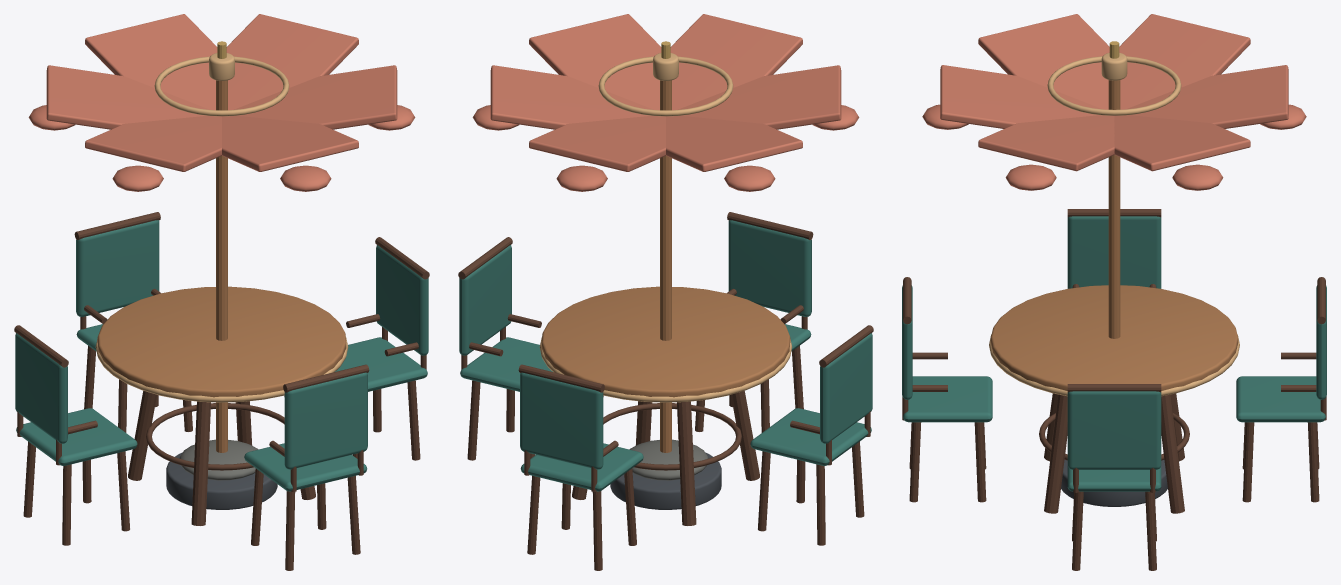
File: garden_table.glb
The picture shows the model from 3 angles, left to right: view 1: azimuth 30°, elevation 25°; view 2: azimuth 150°, elevation 25°; view 3: azimuth 270°, elevation 25°; orthographic projection.
Parts seen in each view (by area): view 1: Tint, Table top, Chair back, Chair back.002, Chair back.003, Chair back.001, Chair seat.003, Parasol pole, Parasol base, Chair seat, Chair seat.001, Table leg.003 (+23 smaller); view 2: Tint, Table top, Chair back.002, Chair back, Chair back.003, Chair back.001, Chair seat.003, Parasol pole, Parasol base, Chair seat.002, Chair seat.001, Table leg.002 (+23 smaller); view 3: Tint, Table top, Chair back.001, Chair back.003, Chair seat, Chair seat.002, Parasol pole, Chair seat.001, Canopy rib ring, Table leg, Table leg.001, Parasol base (+17 smaller).
Part boxes in pixels (x1,y1,x2,y2): Tint: (46,14,397,171); Table top: (97,286,346,397); Chair back: (284,372,367,469); Chair back.002: (76,220,159,316); Chair back.003: (15,333,67,443); Chair back.001: (376,245,428,355); Chair seat.003: (16,408,137,465); Parasol pole: (216,80,227,452); Parasol base: (166,452,277,509); Chair seat: (244,443,367,491); Chair seat.001: (335,337,427,391); Table leg.003: (191,401,210,525); Tint: (490,14,841,171); Table top: (541,286,790,397); Chair back.002: (520,372,603,469); Chair back: (728,220,811,316); Chair back.003: (820,333,872,443); Chair back.001: (459,245,511,355); Chair seat.003: (750,408,871,465); Parasol pole: (660,80,671,452); Parasol base: (610,452,721,509); Chair seat.002: (520,443,643,491); Chair seat.001: (460,337,552,391); Table leg.002: (677,401,696,525); Tint: (940,14,1288,171); Table top: (990,285,1238,390); Chair back.001: (1067,391,1161,469); Chair back.003: (1067,216,1161,288); Chair seat: (903,376,992,422); Chair seat.002: (1236,376,1325,422); Parasol pole: (1108,80,1120,338); Chair seat.001: (1067,466,1161,491); Canopy rib ring: (1047,56,1181,115); Table leg: (1044,394,1067,513); Table leg.001: (1161,394,1184,513); Parasol base: (1061,460,1167,506).
Bounding box in the file's own units: 1.99 × 2.29 × 1.99.
